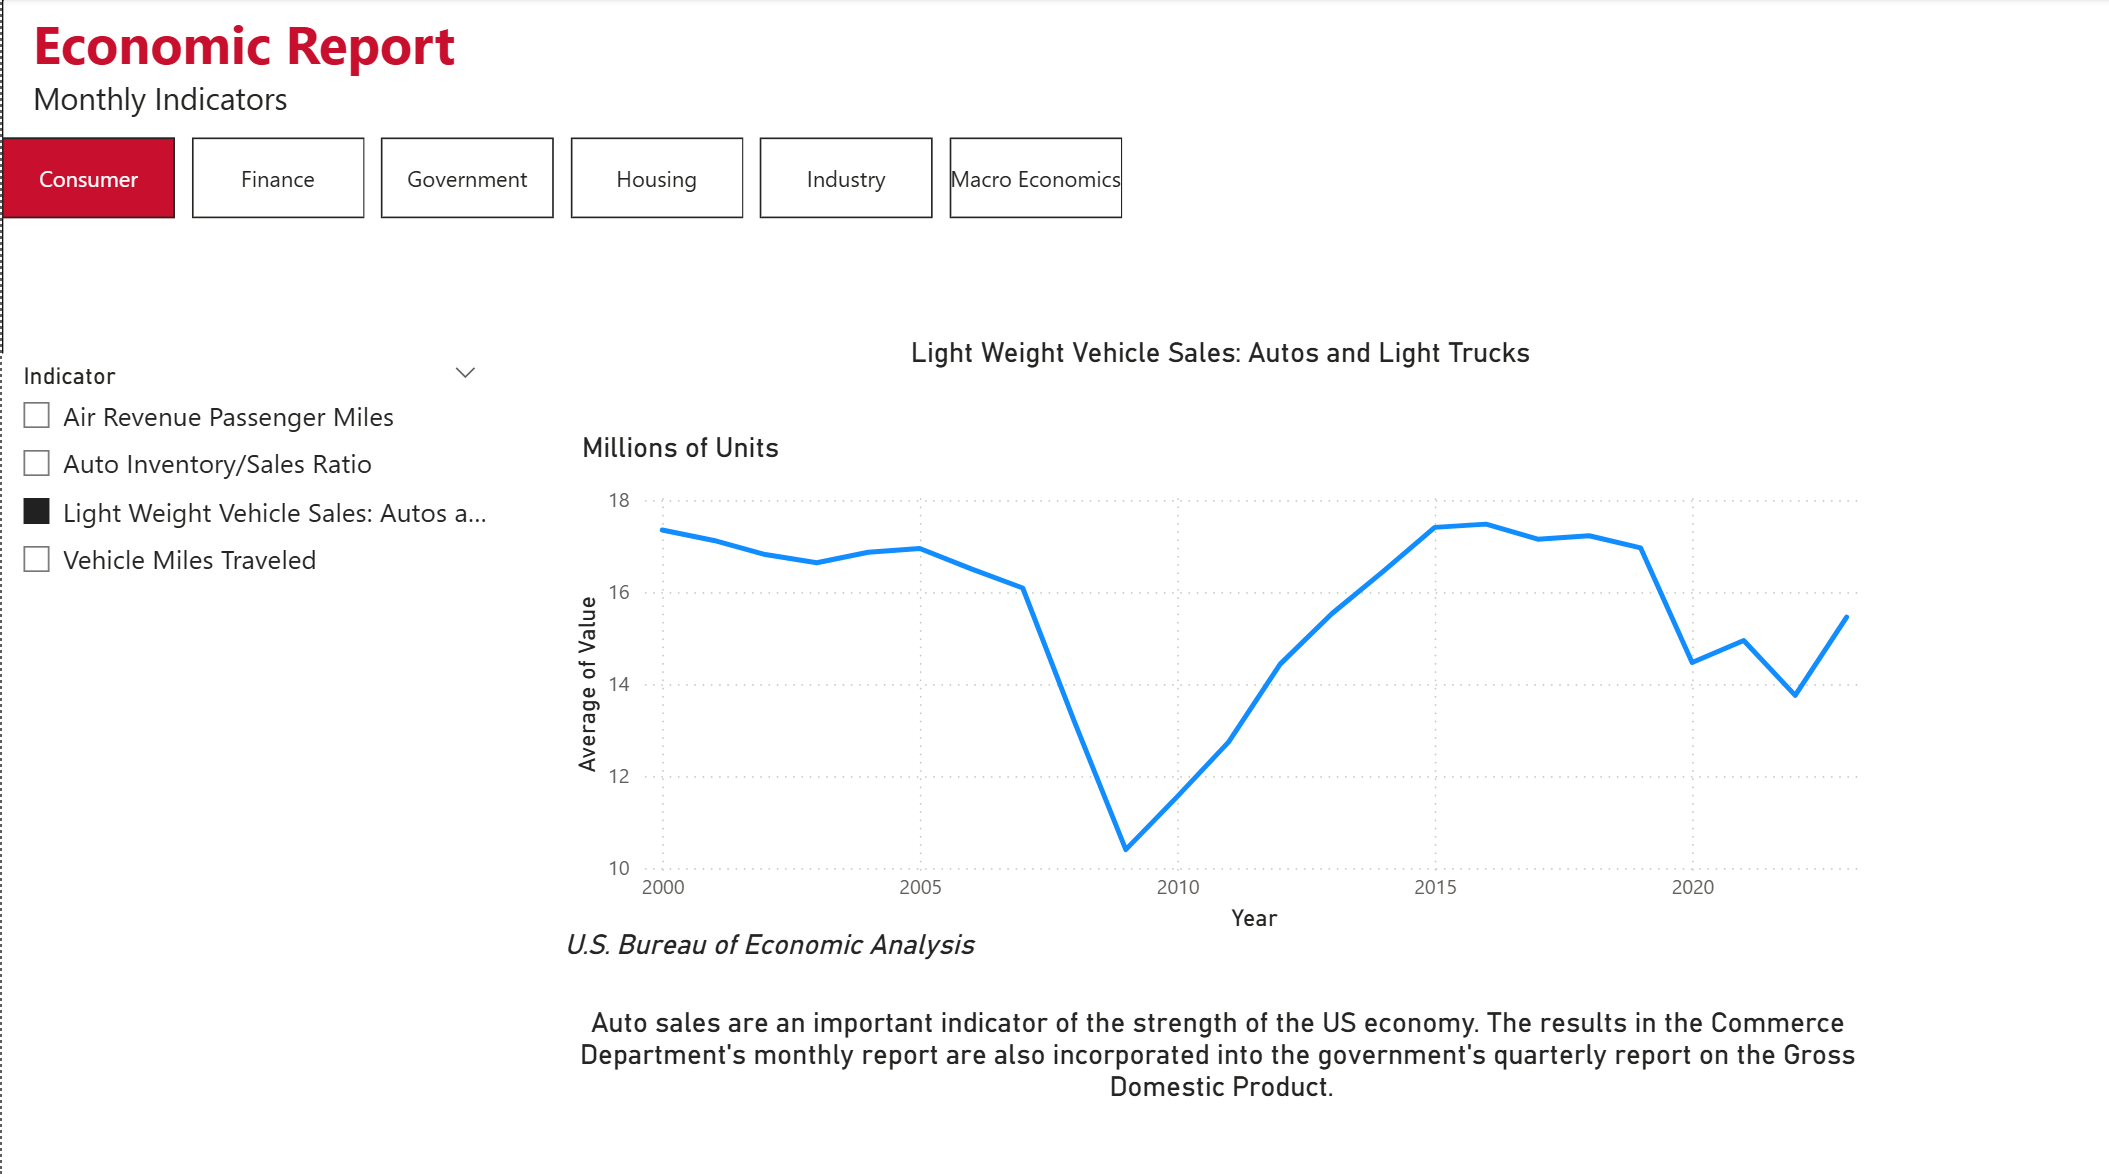

The page's visual inventory and layout, read from the dashboard file:
{"tool":"powerbi","page":{"name":"Consumer","canvas":[1280,720],"ordinal":0},"visuals":[{"type":"lineChart","fields":{"Category":["Complete Data.Date.Variation.Date Hierarchy.Year","Complete Data.Date.Variation.Date Hierarchy.Quarter","Complete Data.Date.Variation.Date Hierarchy.Month","Complete Data.Date.Variation.Date Hierarchy.Day"],"Y":["Avg(Complete Data.Value)"]},"box":[341.8,290.8,796,280.4],"z":0},{"type":"slicer","fields":{"Values":["Complete Data.Indicator"]},"box":[0,215.5,300.1,504],"z":1000},{"type":"textbox","box":[13.9,0,796,84.6],"z":2000},{"type":"image","box":[1052.1,0,228.3,149.5],"z":3000},{"type":"pageNavigator","box":[0,84.6,683.7,49.8],"z":4000},{"type":"card","fields":{"Values":["Min(Complete Data.Footnote)"]},"box":[318.7,575.9,842.4,130.9],"z":5000},{"type":"card","fields":{"Values":["Min(Complete Data.Indicator)"]},"box":[448.4,157.6,582.8,115.9],"z":6000},{"type":"card","fields":{"Values":["Min(Complete Data.UOM)"]},"box":[303.6,254.9,216.7,35.9],"z":7000},{"type":"card","fields":{"Values":["Min(Complete Data.Source)"]},"box":[303.6,560.8,324.4,27.8],"z":8000}]}

Visuals, with their boxes in screenshot pixels (x1, y1, x2, y2), scaled from the page's 1280x720 canvas onto the 2109x1174 screenshot:
lineChart - Complete Data.Date.Variation.Date Hierarchy.Year x Complete Data.Date.Variation.Date Hierarchy.Quarter: [563, 474, 1875, 931]
slicer - Complete Data.Indicator: [0, 351, 494, 1173]
textbox: [23, 0, 1334, 138]
image: [1733, 0, 2108, 244]
pageNavigator: [0, 138, 1127, 219]
card - Min(Complete Data.Footnote): [525, 939, 1913, 1152]
card - Min(Complete Data.Indicator): [739, 257, 1699, 446]
card - Min(Complete Data.UOM): [500, 416, 857, 474]
card - Min(Complete Data.Source): [500, 914, 1035, 960]
